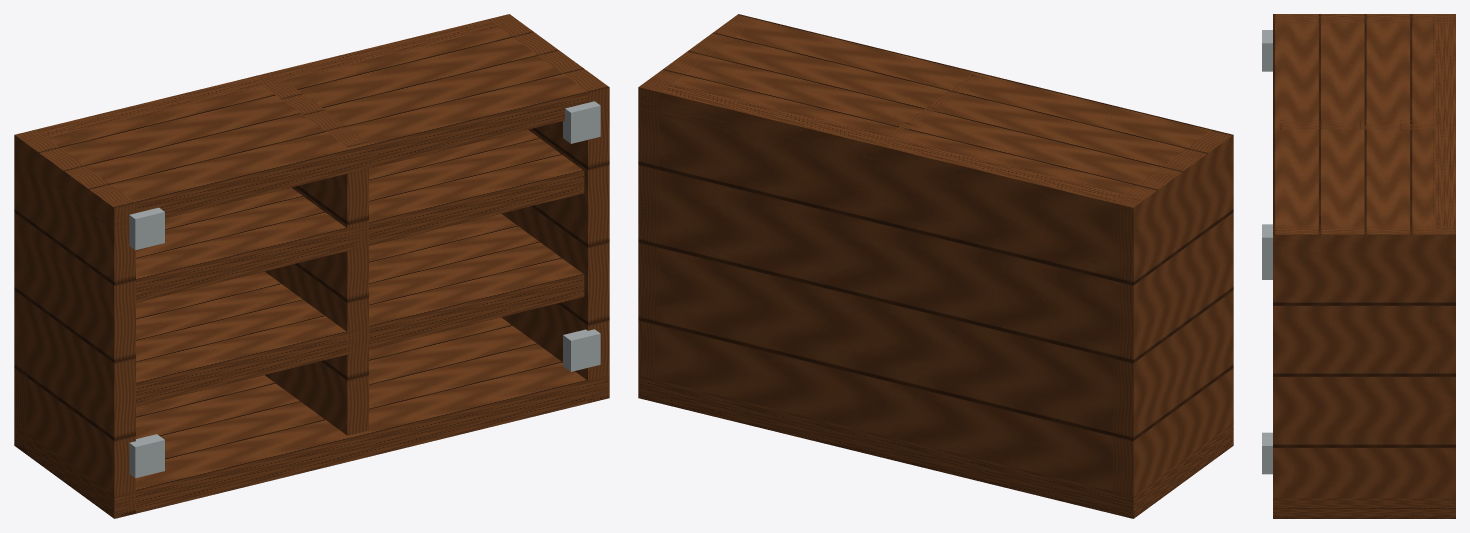
Rendered from suburban-outbreak-interiors-hall-shoe-cubby-d1646683__19934.glb.
The picture shows the model from 3 angles, left to right: view 1: azimuth 30°, elevation 25°; view 2: azimuth 150°, elevation 25°; view 3: azimuth 270°, elevation 25°; orthographic projection. The views are drawn at different scales.
Visible parts, largest first — view 1: hall-shoe-cubby; view 2: hall-shoe-cubby; view 3: hall-shoe-cubby.
Part boxes in pixels (left/top/right/bottom): hall-shoe-cubby: left=14, top=14, right=609, bottom=518; hall-shoe-cubby: left=638, top=14, right=1233, bottom=518; hall-shoe-cubby: left=1262, top=14, right=1455, bottom=518.
Size of the model in its own units: 1 by 0.6001 by 0.371.
2 materials, 1 textured.
